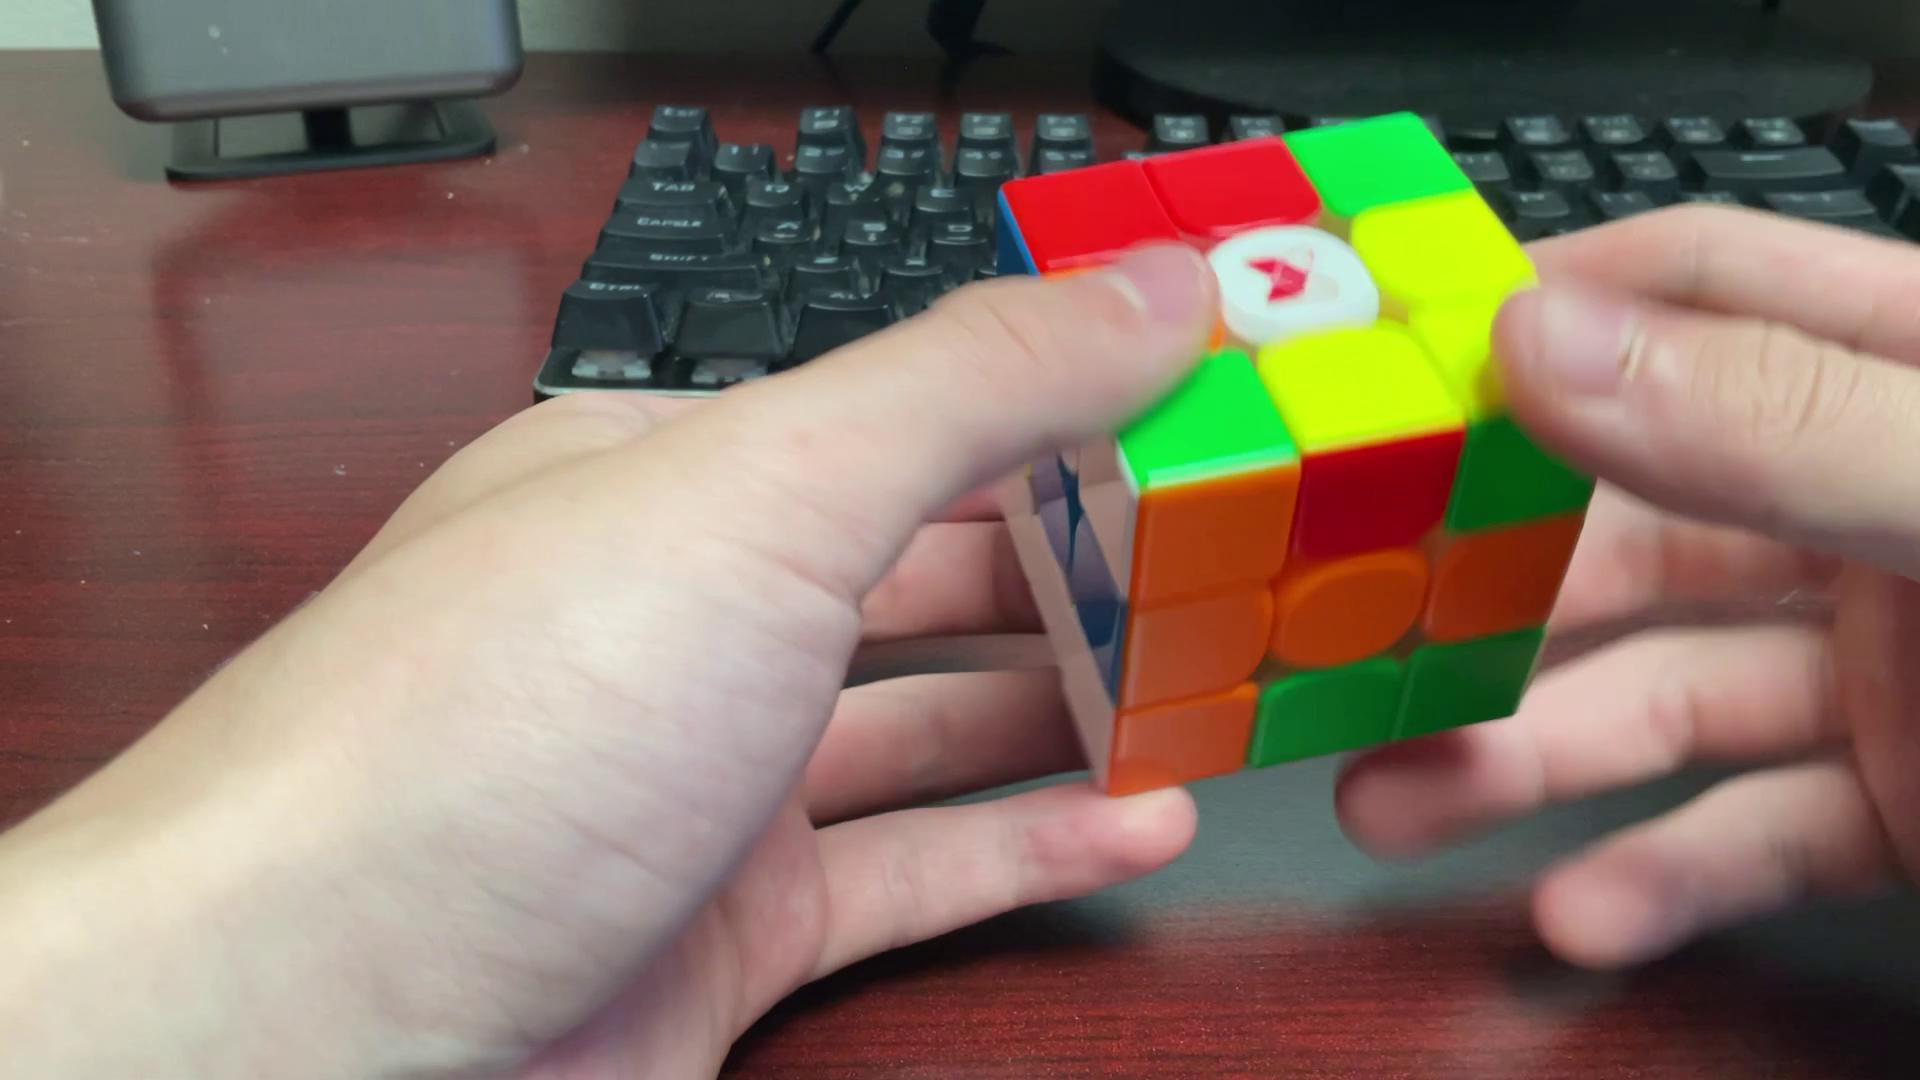Rubiks-Cube: (956, 103, 1636, 803)
